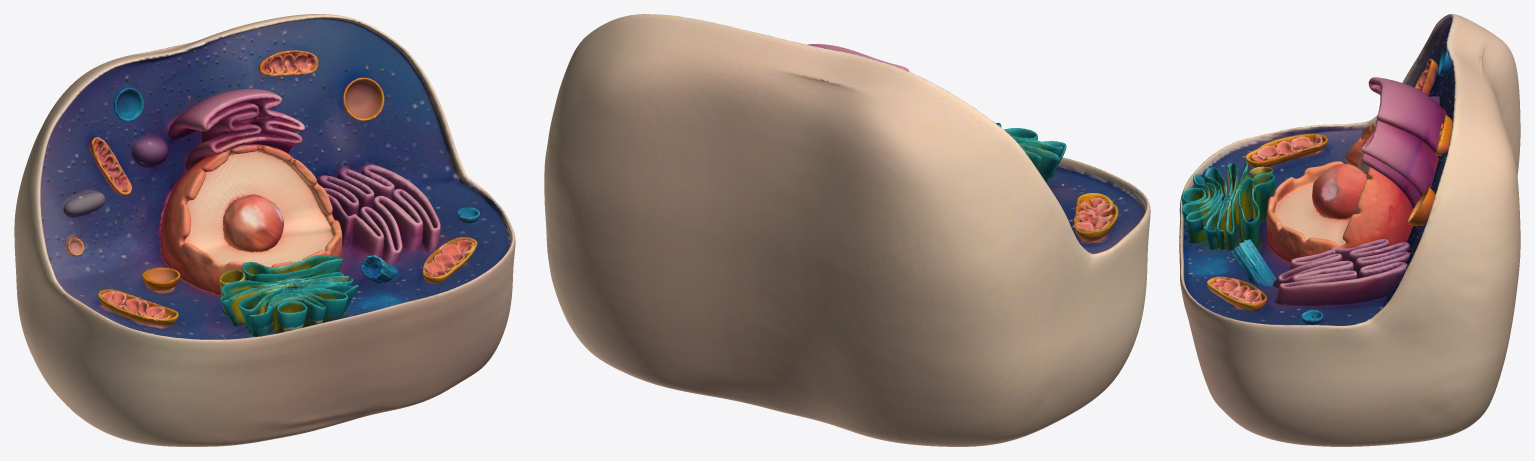
File: cells-hd.glb
3 renders of one model, left to right at view 1: azimuth 30°, elevation 25°; view 2: azimuth 150°, elevation 25°; view 3: azimuth 270°, elevation 25°, orthographic. The views are drawn at different scales.
Visible parts, largest first — view 1: stylized_cell_node; view 2: stylized_cell_node; view 3: stylized_cell_node.
Boxes of the visible parts, <box> form: stylized_cell_node: <box>14,14,515,446</box>; stylized_cell_node: <box>544,14,1150,446</box>; stylized_cell_node: <box>1179,14,1520,446</box>.
Size of the model in its own units: 0.9797 by 0.6768 by 0.6943.
1 material, 1 textured.
